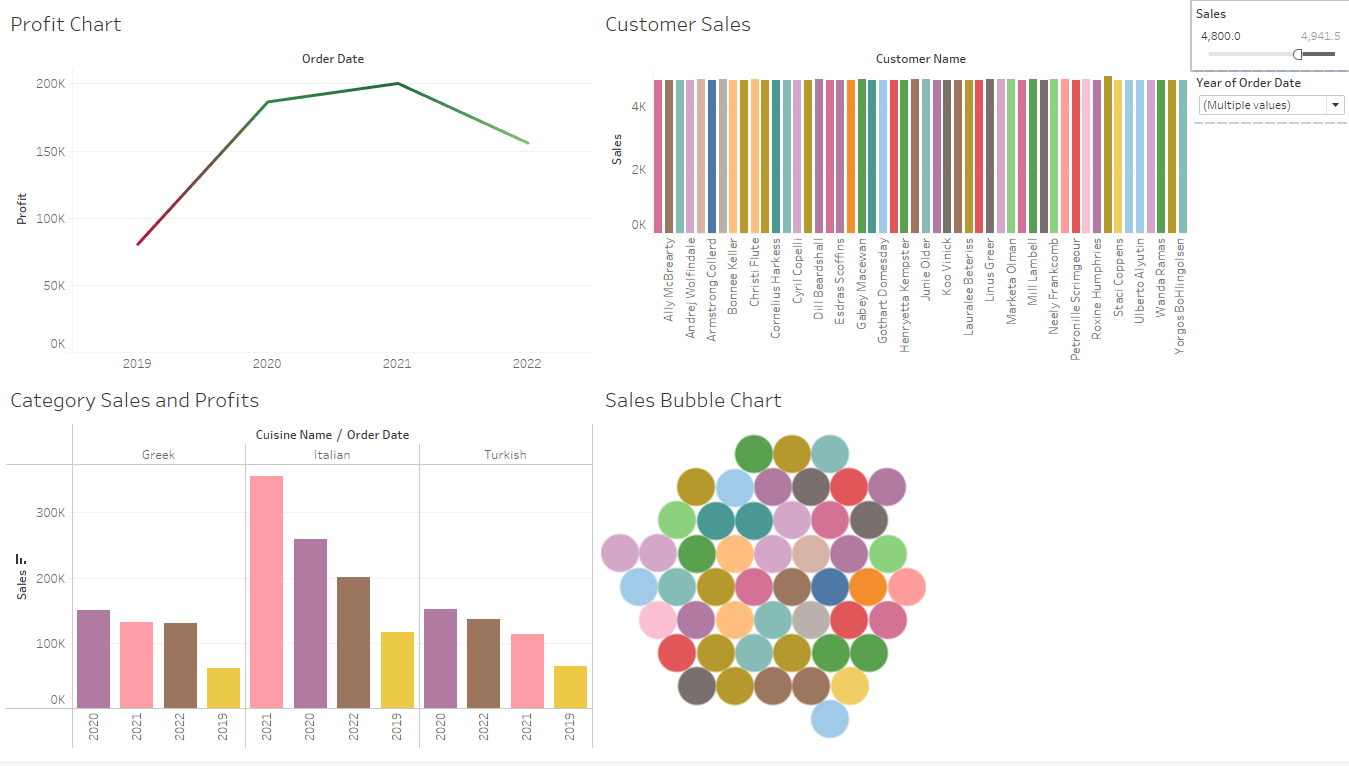

The dashboard page shown, as its layout file describes it:
{"tool":"tableau","page":{"name":"Dashboard","canvas":[1366,768],"ordinal":0},"visuals":[{"type":"worksheet","title":"Profit Chart","mark":"Automatic","rows":["Calculation_782500452227571712"],"cols":["Order Date"],"box":[8,8,595,376]},{"type":"worksheet","title":"Customer Sales","mark":"Automatic","rows":["Sales"],"cols":["Customer Name"],"box":[603,8,595,376]},{"type":"filter","title":"Customer Sales","param":"[federated.093qejq0tlyfcs18ozxgs1s7kil8].[sum:Sales:qk]","box":[1198,8,160,69]},{"type":"filter","title":"Profit Chart","param":"[federated.093qejq0tlyfcs18ozxgs1s7kil8].[yr:Order Date:ok]","box":[1198,77,160,52]},{"type":"worksheet","title":"Category Sales and Profits","mark":"Bar","rows":["Sales"],"cols":["Cuisine Name","Order Date"],"box":[8,384,595,376]},{"type":"worksheet","title":"Sales Bubble Chart","mark":"Circle","box":[603,384,595,376]}]}

Visuals, with their boxes in screenshot pixels (x1, y1, x2, y2), scaled from the page's 1366x768 canvas onto the 1349x766 screenshot:
"Profit Chart" worksheet: BBox(8, 8, 595, 383)
"Customer Sales" worksheet: BBox(595, 8, 1183, 383)
"Customer Sales" filter: BBox(1183, 8, 1341, 77)
"Profit Chart" filter: BBox(1183, 77, 1341, 129)
"Category Sales and Profits" worksheet (Bar marks): BBox(8, 383, 595, 758)
"Sales Bubble Chart" worksheet (Circle marks): BBox(595, 383, 1183, 758)
